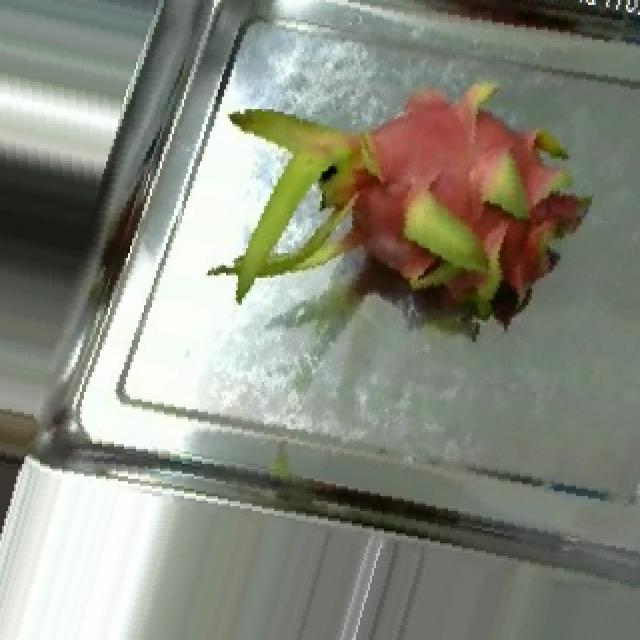fruit: (178, 2, 618, 397)
